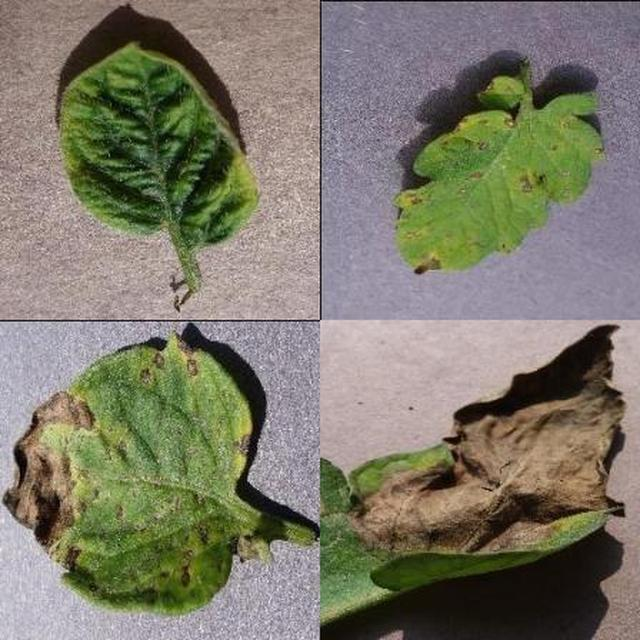Yellow Leaf Curl Virus: (184, 209, 640, 640)
